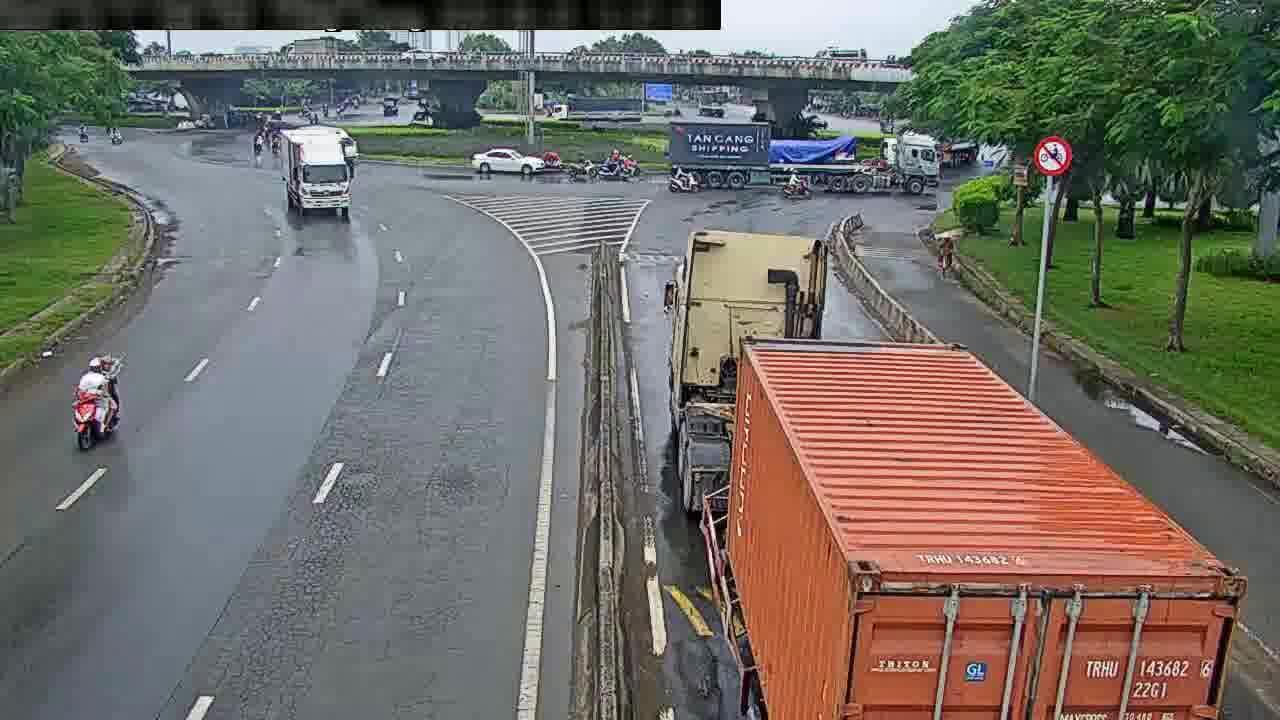8: (662, 228, 1232, 712), (658, 121, 942, 203), (280, 126, 365, 224)
container: (469, 147, 548, 177)
motorbike: (65, 352, 132, 457), (937, 231, 957, 273)
